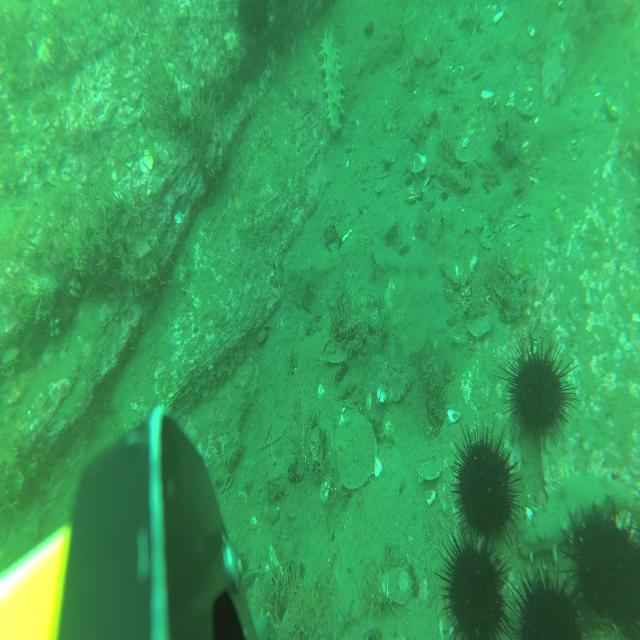echinus: (450, 416, 525, 554), (433, 518, 512, 640), (498, 330, 579, 448), (562, 500, 634, 623), (503, 560, 589, 640), (617, 532, 640, 640), (236, 0, 275, 47)
holothurian: (518, 469, 632, 563), (317, 22, 346, 138)
scallop: (336, 412, 377, 490), (382, 567, 412, 607), (415, 30, 442, 65), (415, 449, 442, 480)
